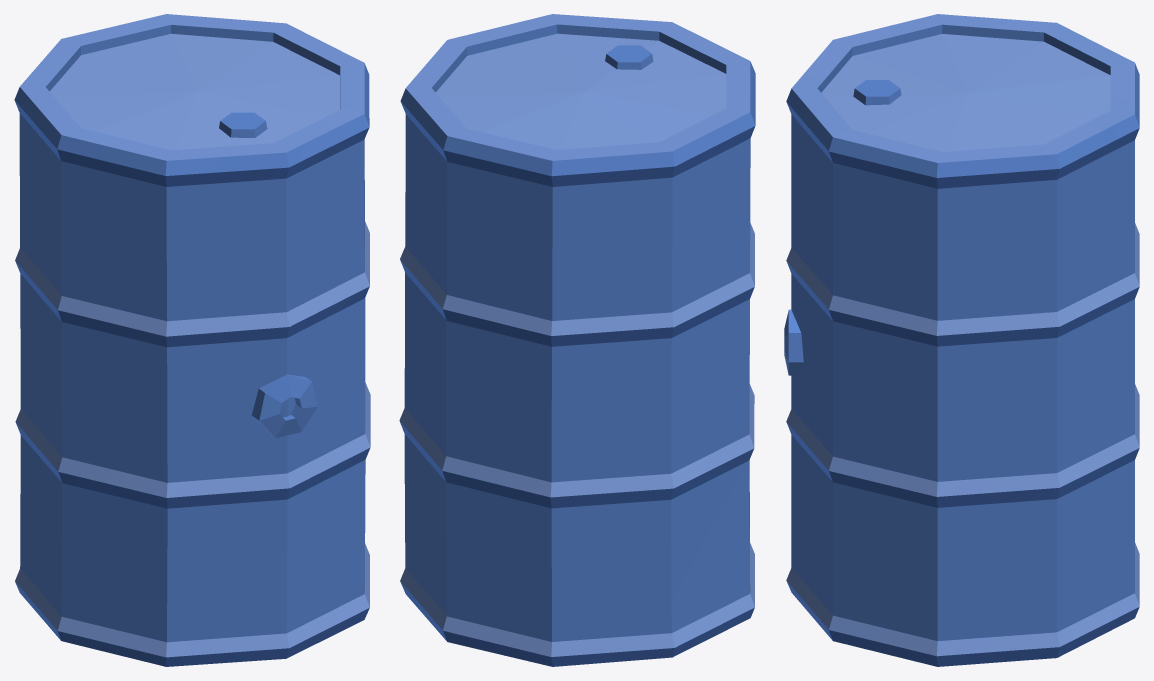
The model's file is barrel1.fbx.
The picture shows the model from 3 angles, left to right: view 1: azimuth 30°, elevation 25°; view 2: azimuth 150°, elevation 25°; view 3: azimuth 270°, elevation 25°; orthographic projection.
Visible parts, largest first — view 1: barrel1; view 2: barrel1; view 3: barrel1.
Boxes of the visible parts, <box> form: barrel1: <box>14,14,370,666</box>; barrel1: <box>399,14,755,666</box>; barrel1: <box>784,14,1139,666</box>.
Bounding box in the file's own units: 68.44 × 106 × 67.57.
